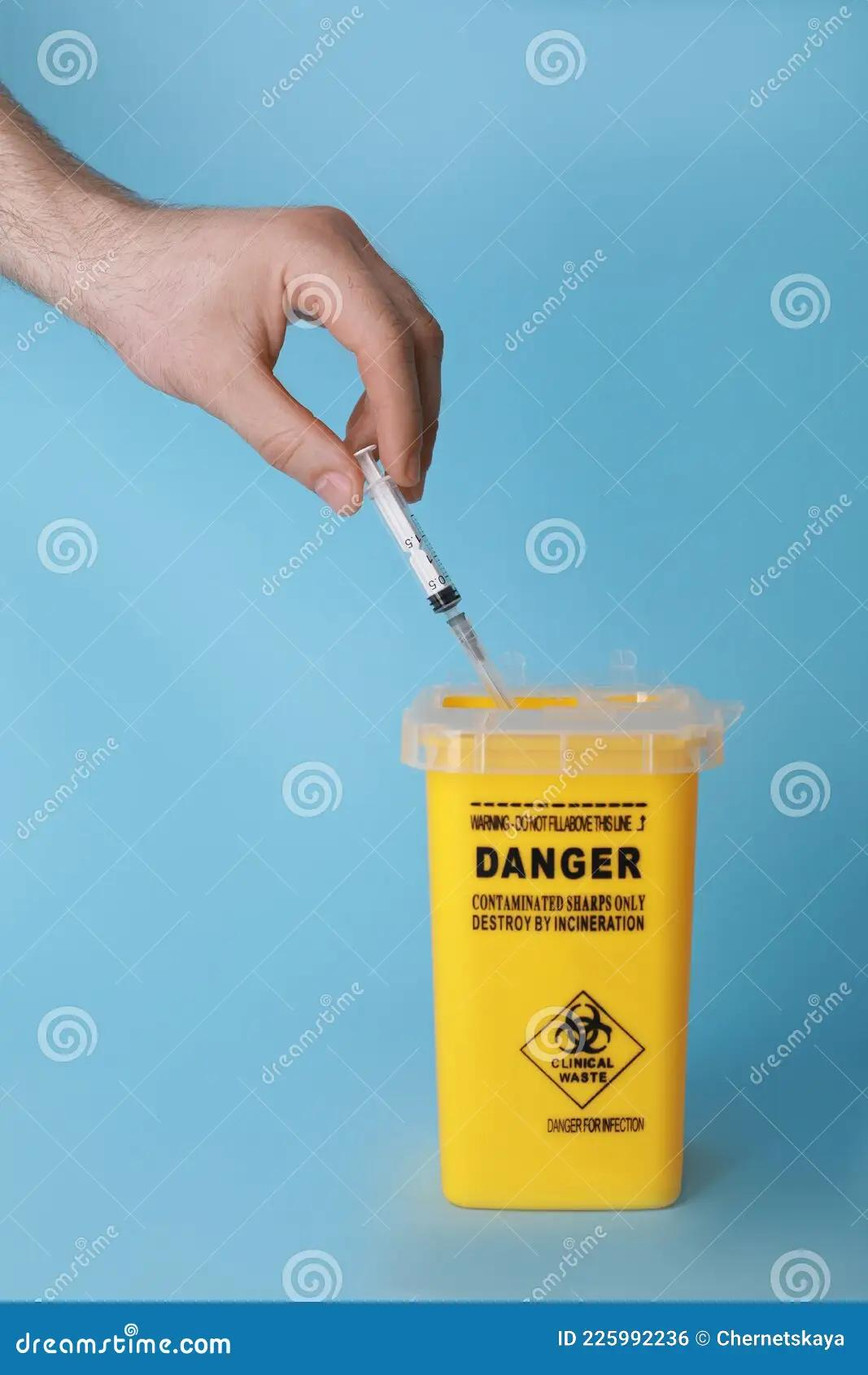Syringe: (355, 446, 514, 707)
